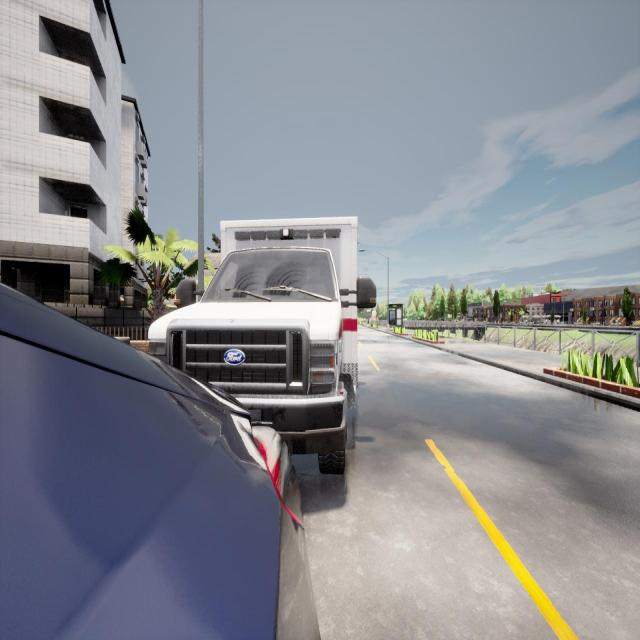Vehicle: (0, 280, 324, 638), (144, 215, 376, 472)
